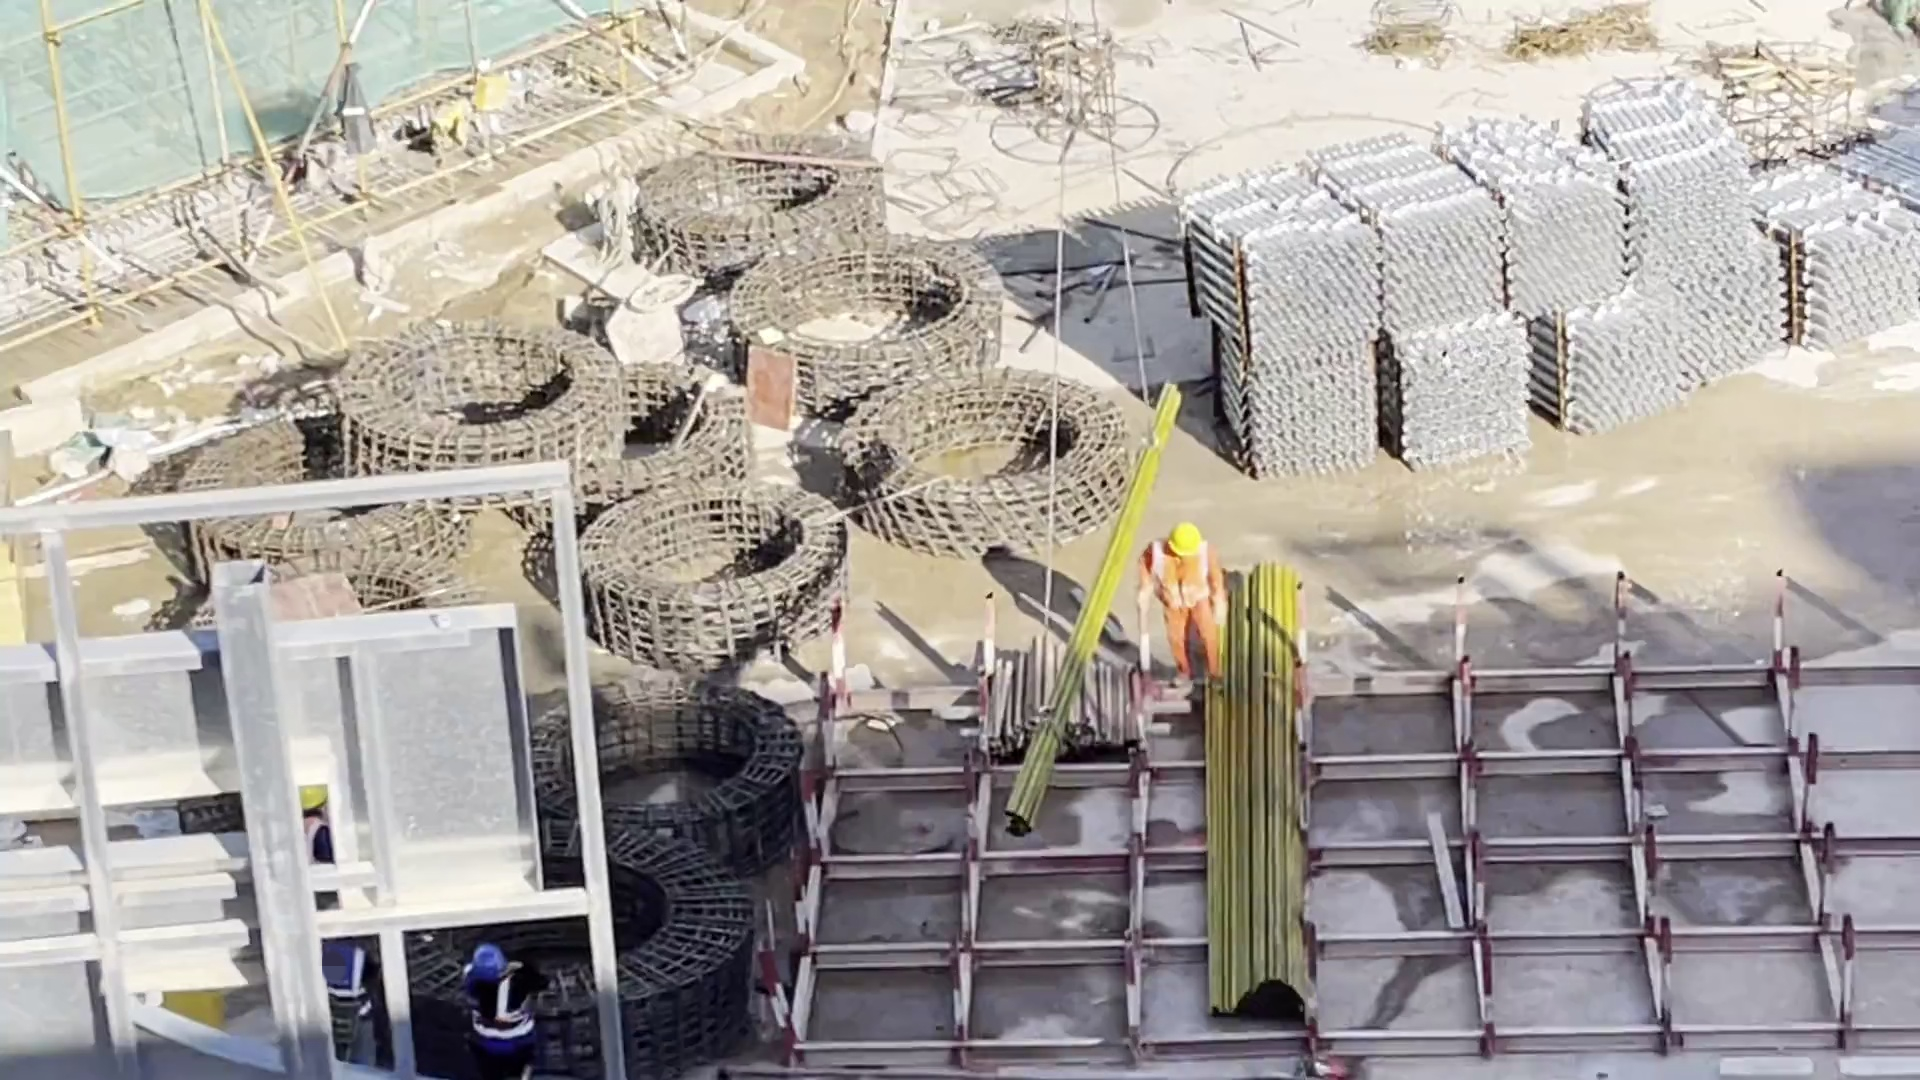helmet: (1164, 524, 1201, 563)
person: (1141, 518, 1233, 696)
scaffold: (1186, 81, 1895, 481)
vest: (1149, 544, 1213, 618)
